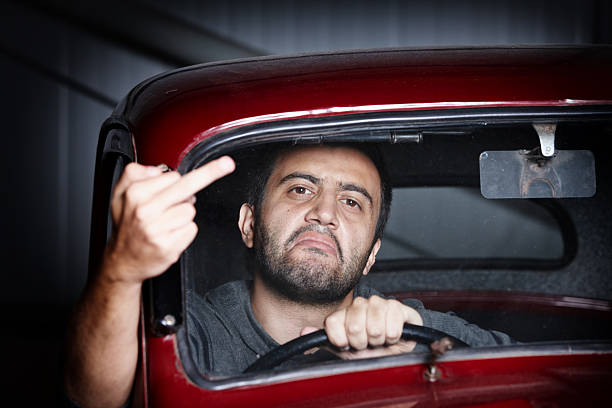insulting_gesture: (109, 154, 236, 279)
